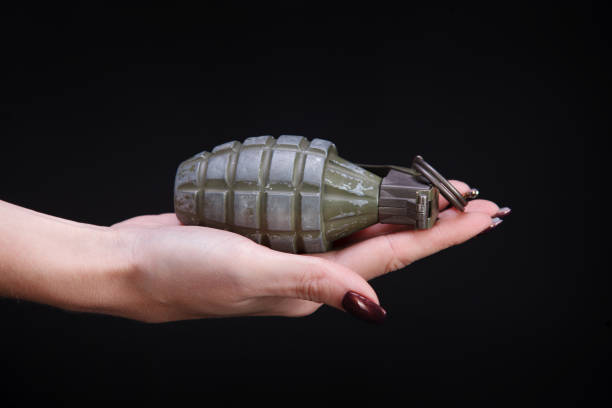e1: (168, 136, 466, 248)
